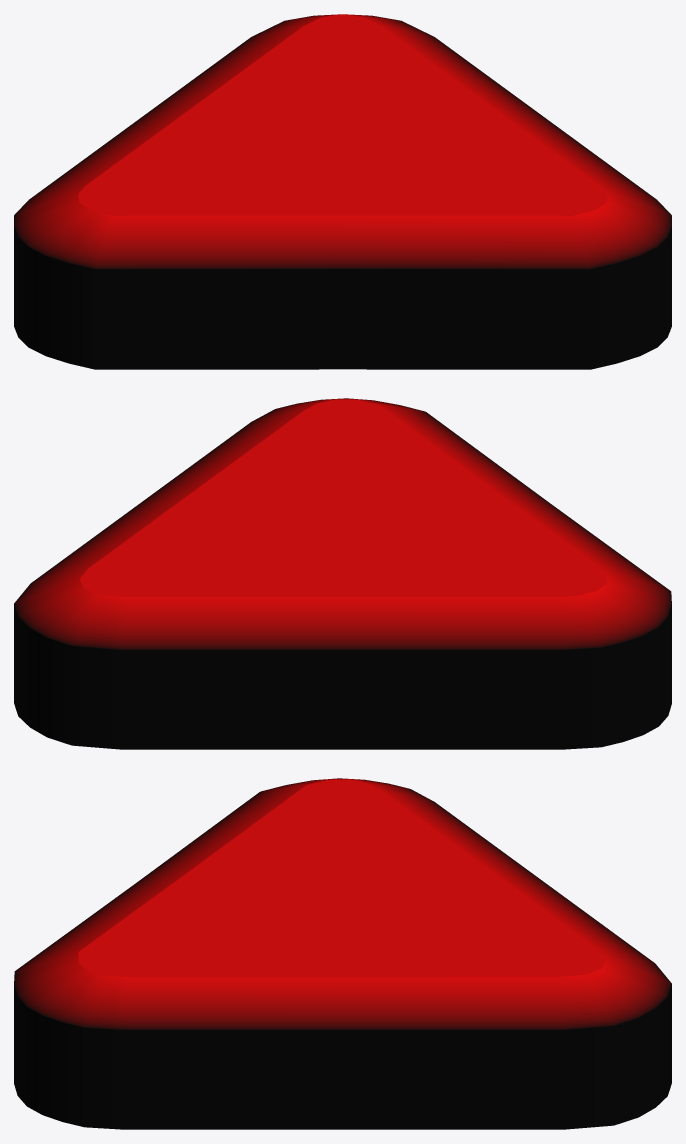
Rendered from CrystalHex_H.fbx.
3 renders of one model, top to bottom at view 1: azimuth 30°, elevation 25°; view 2: azimuth 150°, elevation 25°; view 3: azimuth 270°, elevation 25°, orthographic.
Parts seen in each view (by area): view 1: CrystalHex_H; view 2: CrystalHex_H; view 3: CrystalHex_H.
Part boxes in pixels (left/top/right/bottom): CrystalHex_H: left=14, top=14, right=671, bottom=369; CrystalHex_H: left=14, top=398, right=671, bottom=749; CrystalHex_H: left=14, top=778, right=671, bottom=1129.
Bounding box in the file's own units: 0.4098 × 0.0955 × 0.4525.
